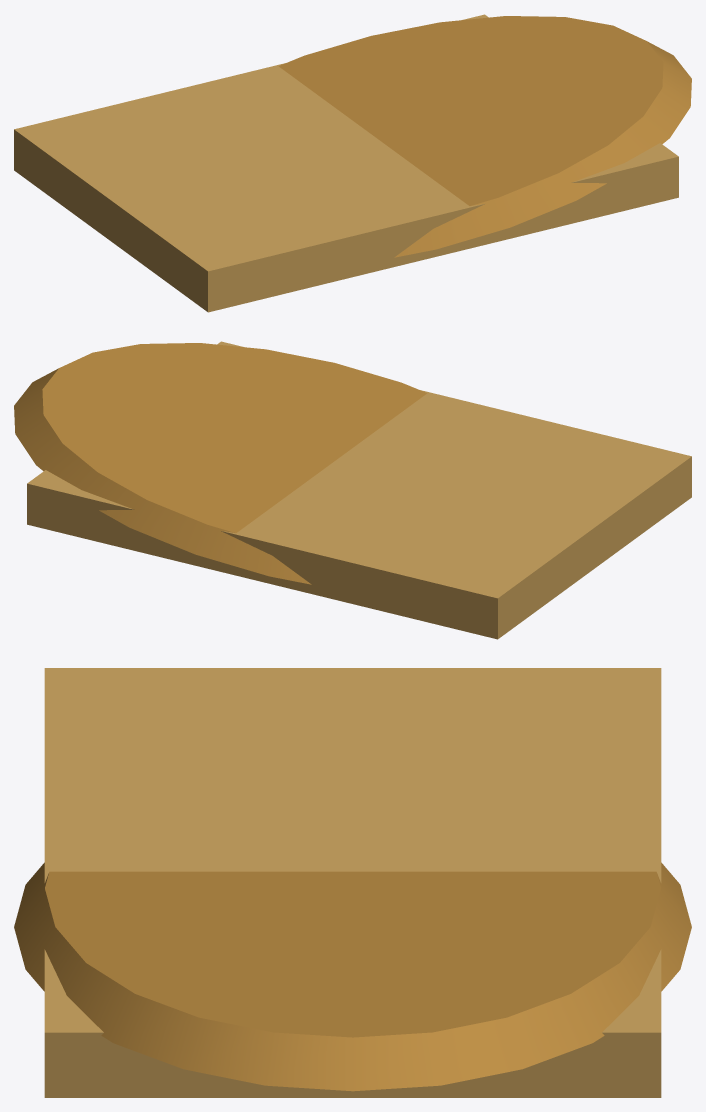
File: milanesa.glb
3 renders of one model, top to bottom at view 1: azimuth 30°, elevation 25°; view 2: azimuth 150°, elevation 25°; view 3: azimuth 270°, elevation 25°, orthographic. The views are drawn at different scales.
Parts seen in each view (by area): view 1: cutlet, crust; view 2: cutlet, crust; view 3: cutlet, crust.
Part boxes in pixels (x1,y1,x2,y2): cutlet: (14, 14, 678, 312); crust: (278, 16, 691, 257); cutlet: (27, 341, 691, 639); crust: (14, 343, 427, 584); cutlet: (44, 668, 661, 1097); crust: (14, 862, 691, 1091).
Bounding box in the file's own units: 0.5018 × 0.066 × 0.33.
